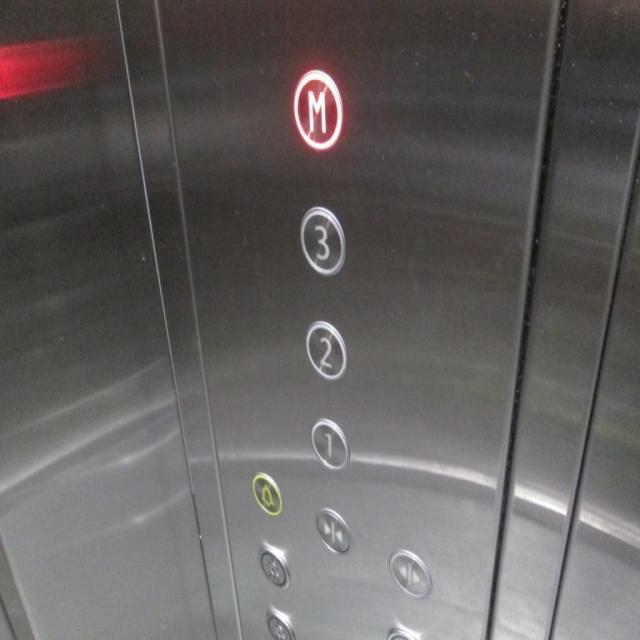1: (307, 413, 349, 471)
2: (303, 314, 348, 381)
3: (297, 200, 347, 278)
M: (290, 63, 346, 154)
alarm: (248, 467, 283, 516)
close: (313, 502, 352, 558)
keyhole: (255, 538, 291, 592)
open: (386, 543, 433, 601)
